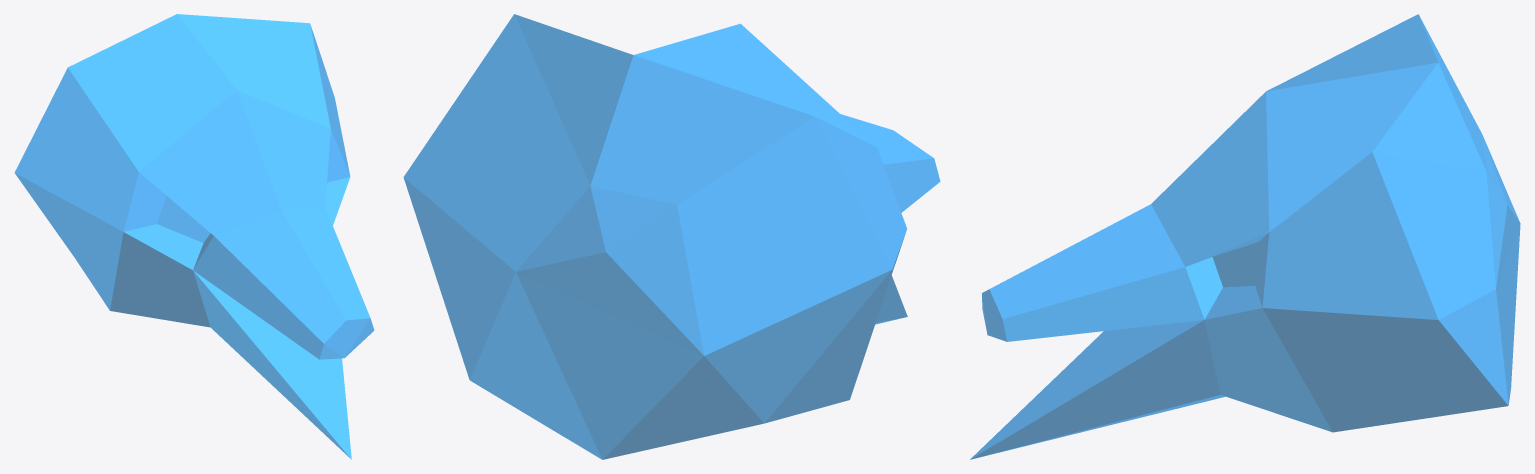
Rendered from ice_bird_head.glb.
The picture shows the model from 3 angles, left to right: view 1: azimuth 30°, elevation 25°; view 2: azimuth 150°, elevation 25°; view 3: azimuth 270°, elevation 25°; orthographic projection. The views are drawn at different scales.
Visible parts, largest first — view 1: IceBird Head; view 2: IceBird Head; view 3: IceBird Head.
Part boxes in pixels (x1,y1,x2,y2): IceBird Head: [14, 14, 374, 459]; IceBird Head: [403, 14, 940, 459]; IceBird Head: [970, 14, 1520, 459].
Bounding box in the file's own units: 1.37 × 1.24 × 1.55.
